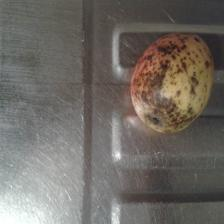Mango Semirotten: (128, 26, 217, 136)
